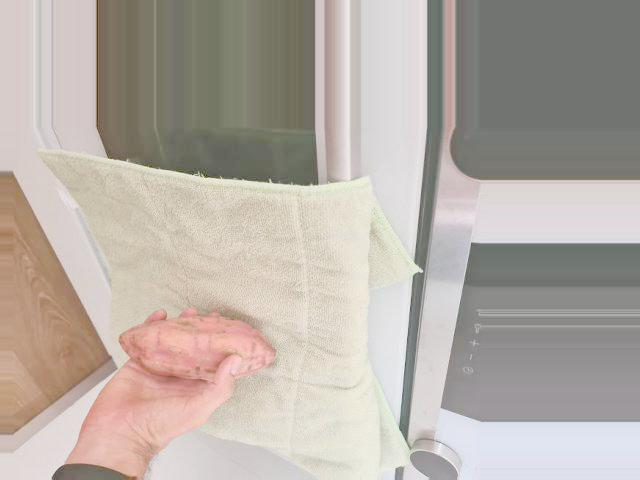sweet_potato: (115, 319, 272, 384)
